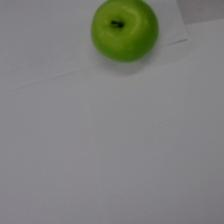green: (91, 0, 159, 62)
